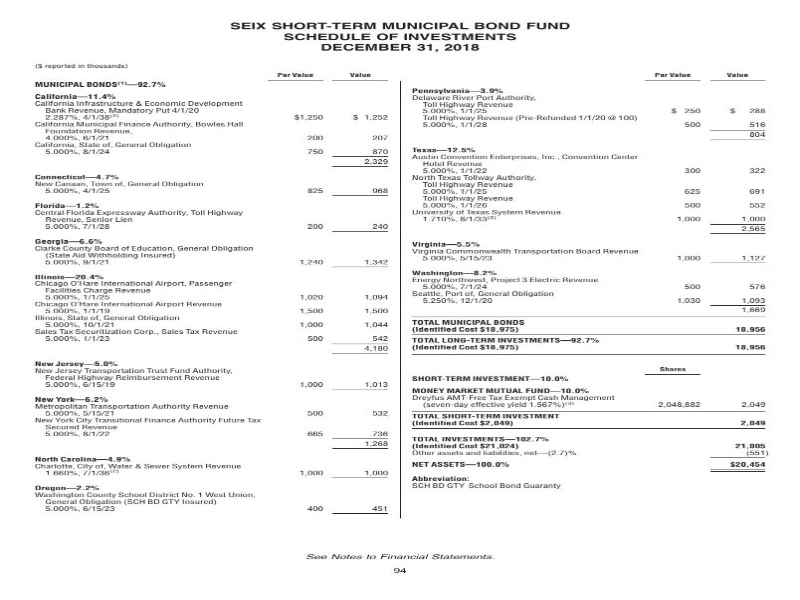table: (24, 56, 407, 533), (393, 67, 790, 525)
